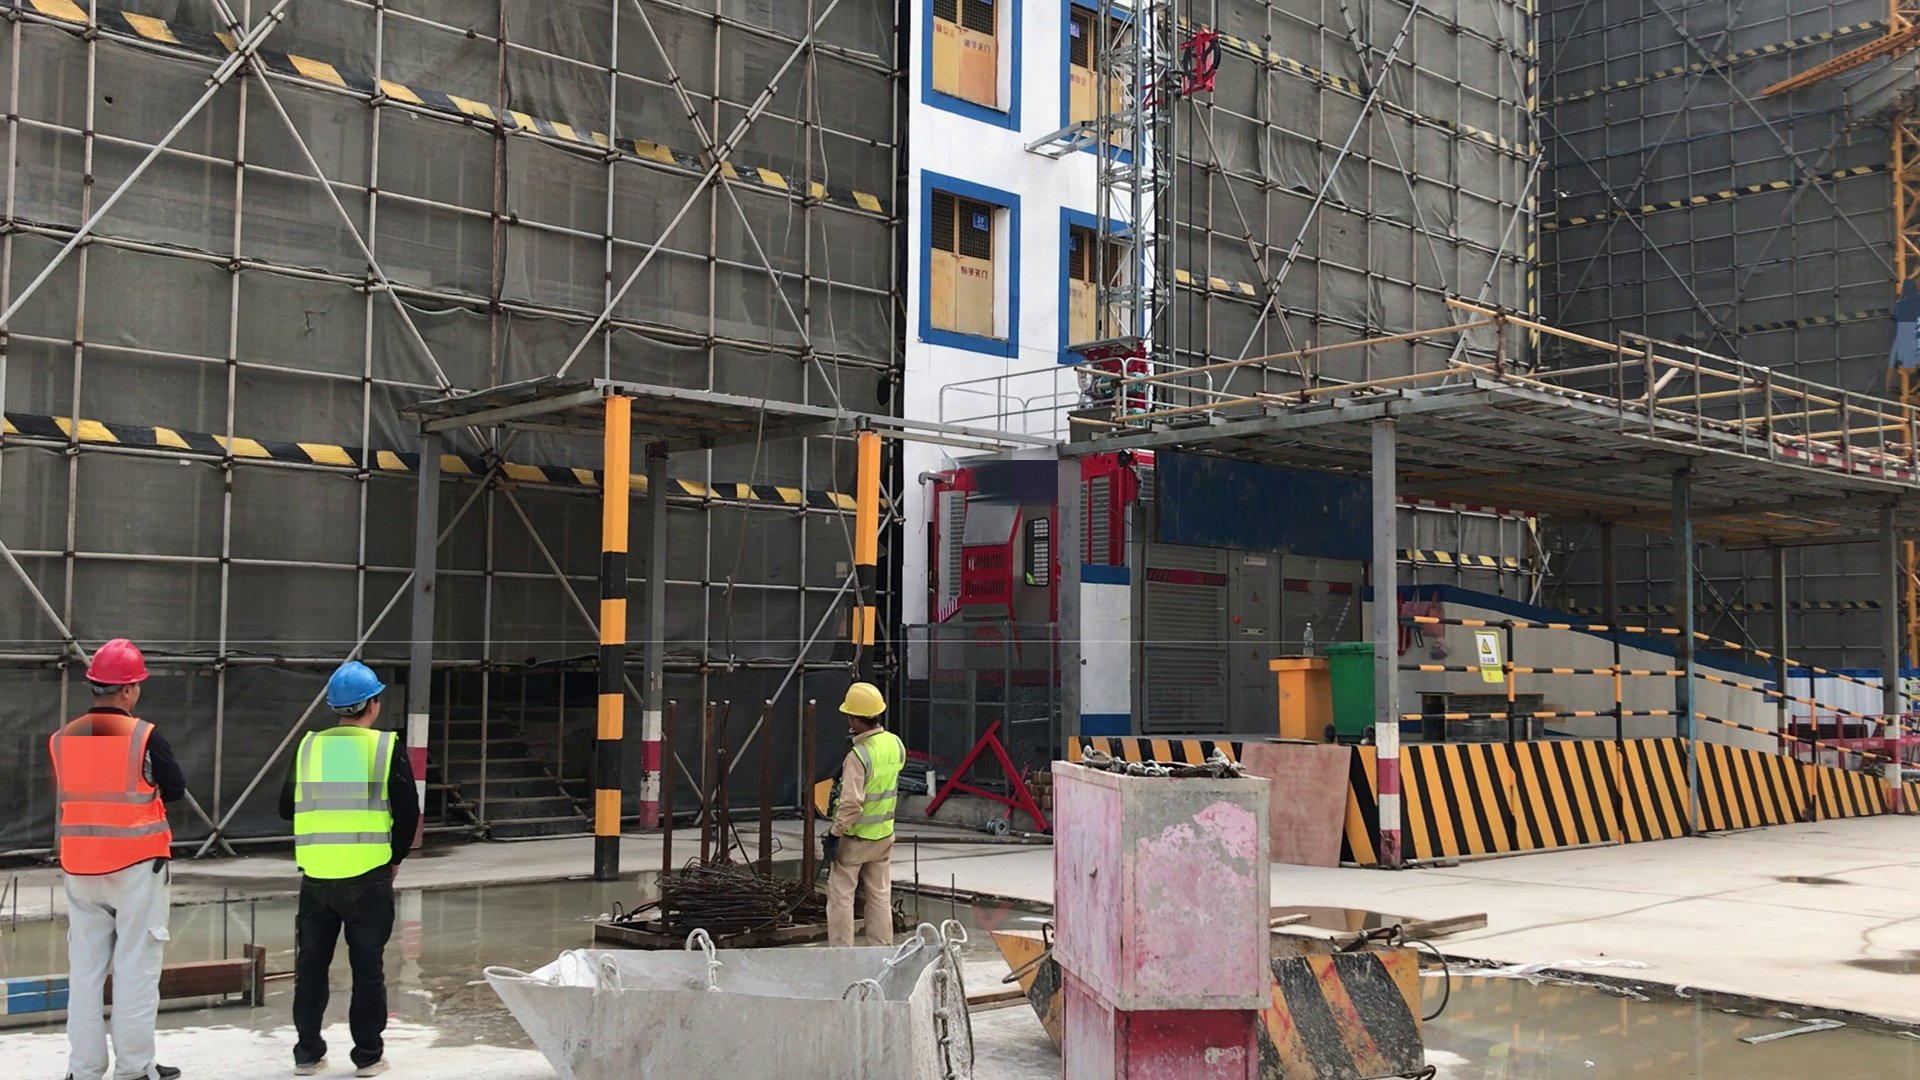fence: (1414, 575, 1902, 780)
helmet: (322, 654, 388, 712), (83, 634, 151, 690), (838, 679, 892, 722)
hopper: (471, 906, 976, 1080), (1000, 888, 1442, 1073)
person: (282, 655, 429, 1080), (47, 636, 185, 1080), (825, 675, 905, 950)
slogan: (1464, 618, 1516, 680)
vest: (49, 712, 177, 882), (292, 719, 400, 889), (839, 728, 913, 851)
